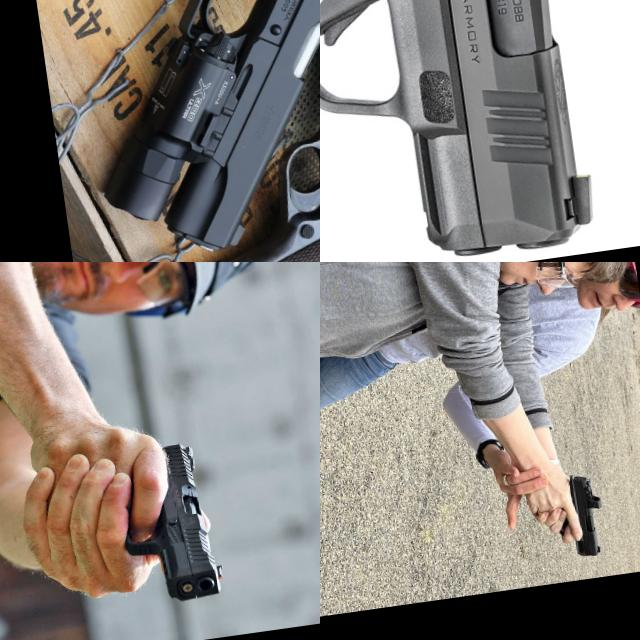handgun: (320, 0, 612, 262), (49, 0, 320, 262), (118, 0, 320, 262), (106, 436, 228, 612), (534, 469, 608, 564)
